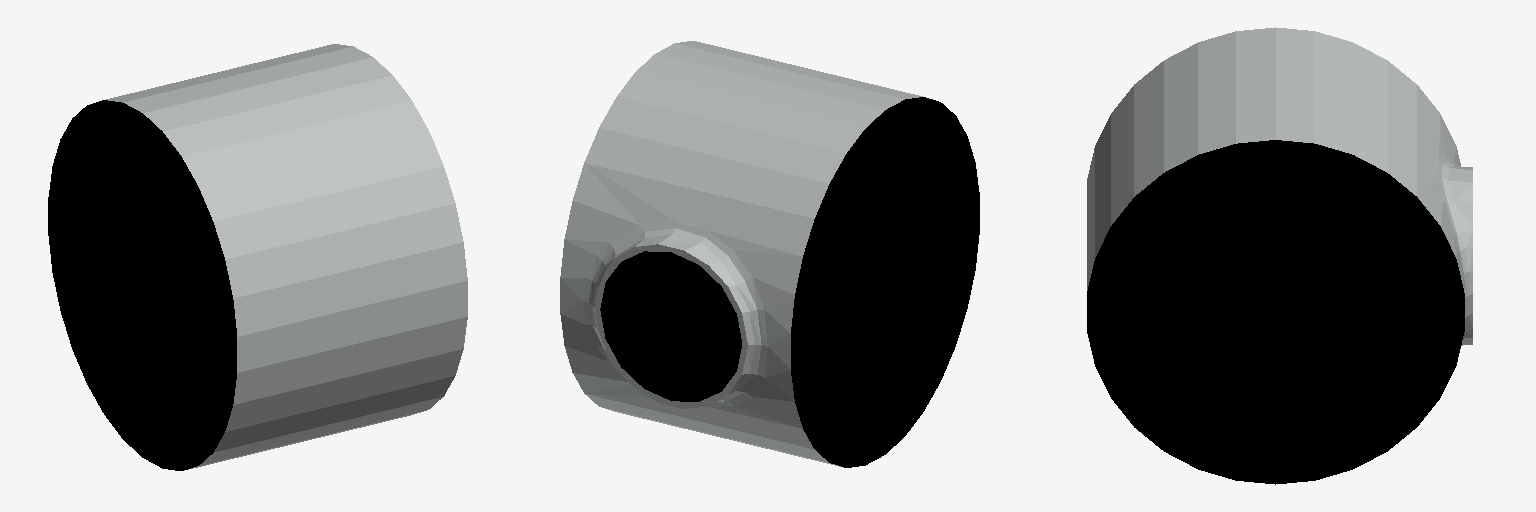
The picture shows the model from 3 angles: view 1: azimuth 30°, elevation 25°; view 2: azimuth 150°, elevation 25°; view 3: azimuth 270°, elevation 25°; orthographic projection.
Parts seen in each view (by area): view 1: ankle; view 2: ankle; view 3: ankle.
Boxes of the visible parts, x1,y1,x2,y2 form: ankle: [48, 44, 467, 470]; ankle: [560, 41, 979, 467]; ankle: [1087, 27, 1472, 484].
Size of the model in its own units: 0.1198 by 0.1713 by 0.1742.
1 materials, 1 textured.